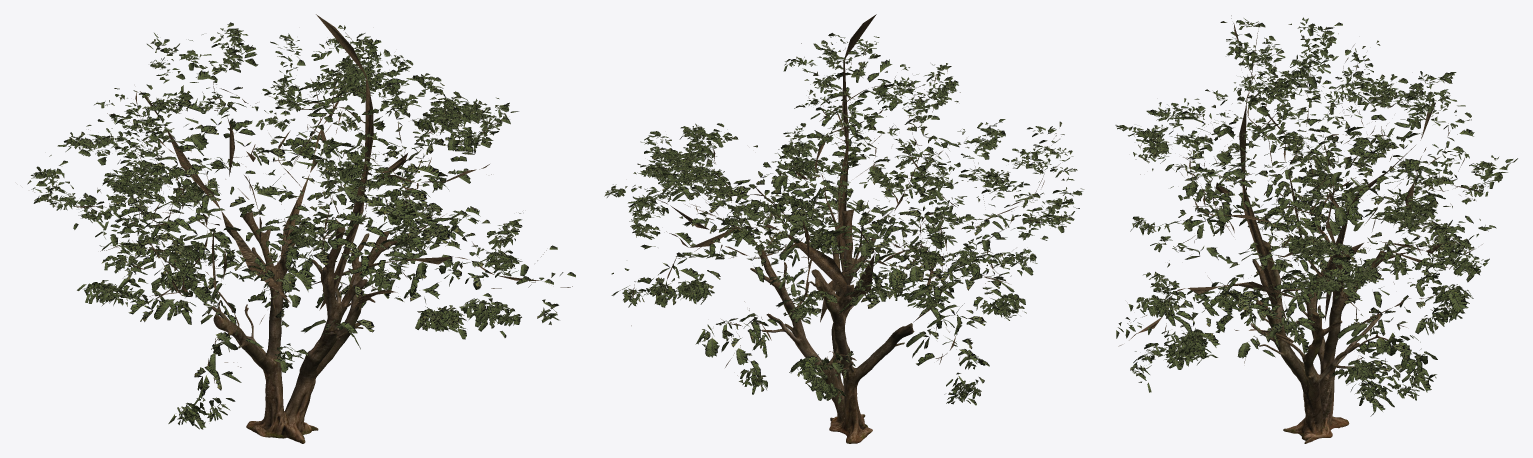
File: jacaranda.glb
3 views of the same model, side by side, from view 1: azimuth 30°, elevation 25°; view 2: azimuth 150°, elevation 25°; view 3: azimuth 270°, elevation 25° (orthographic). The views are drawn at different scales.
Visible parts, largest first — view 1: jacaranda_tree_LOD0; view 2: jacaranda_tree_LOD0; view 3: jacaranda_tree_LOD0.
Boxes of the visible parts, x1,y1,x2,y2 form: jacaranda_tree_LOD0: (27,14,575,443); jacaranda_tree_LOD0: (604,14,1084,443); jacaranda_tree_LOD0: (1115,15,1517,443).
Size of the model in its own units: 24.24 by 20.98 by 18.71.
3 materials, 3 textured.
